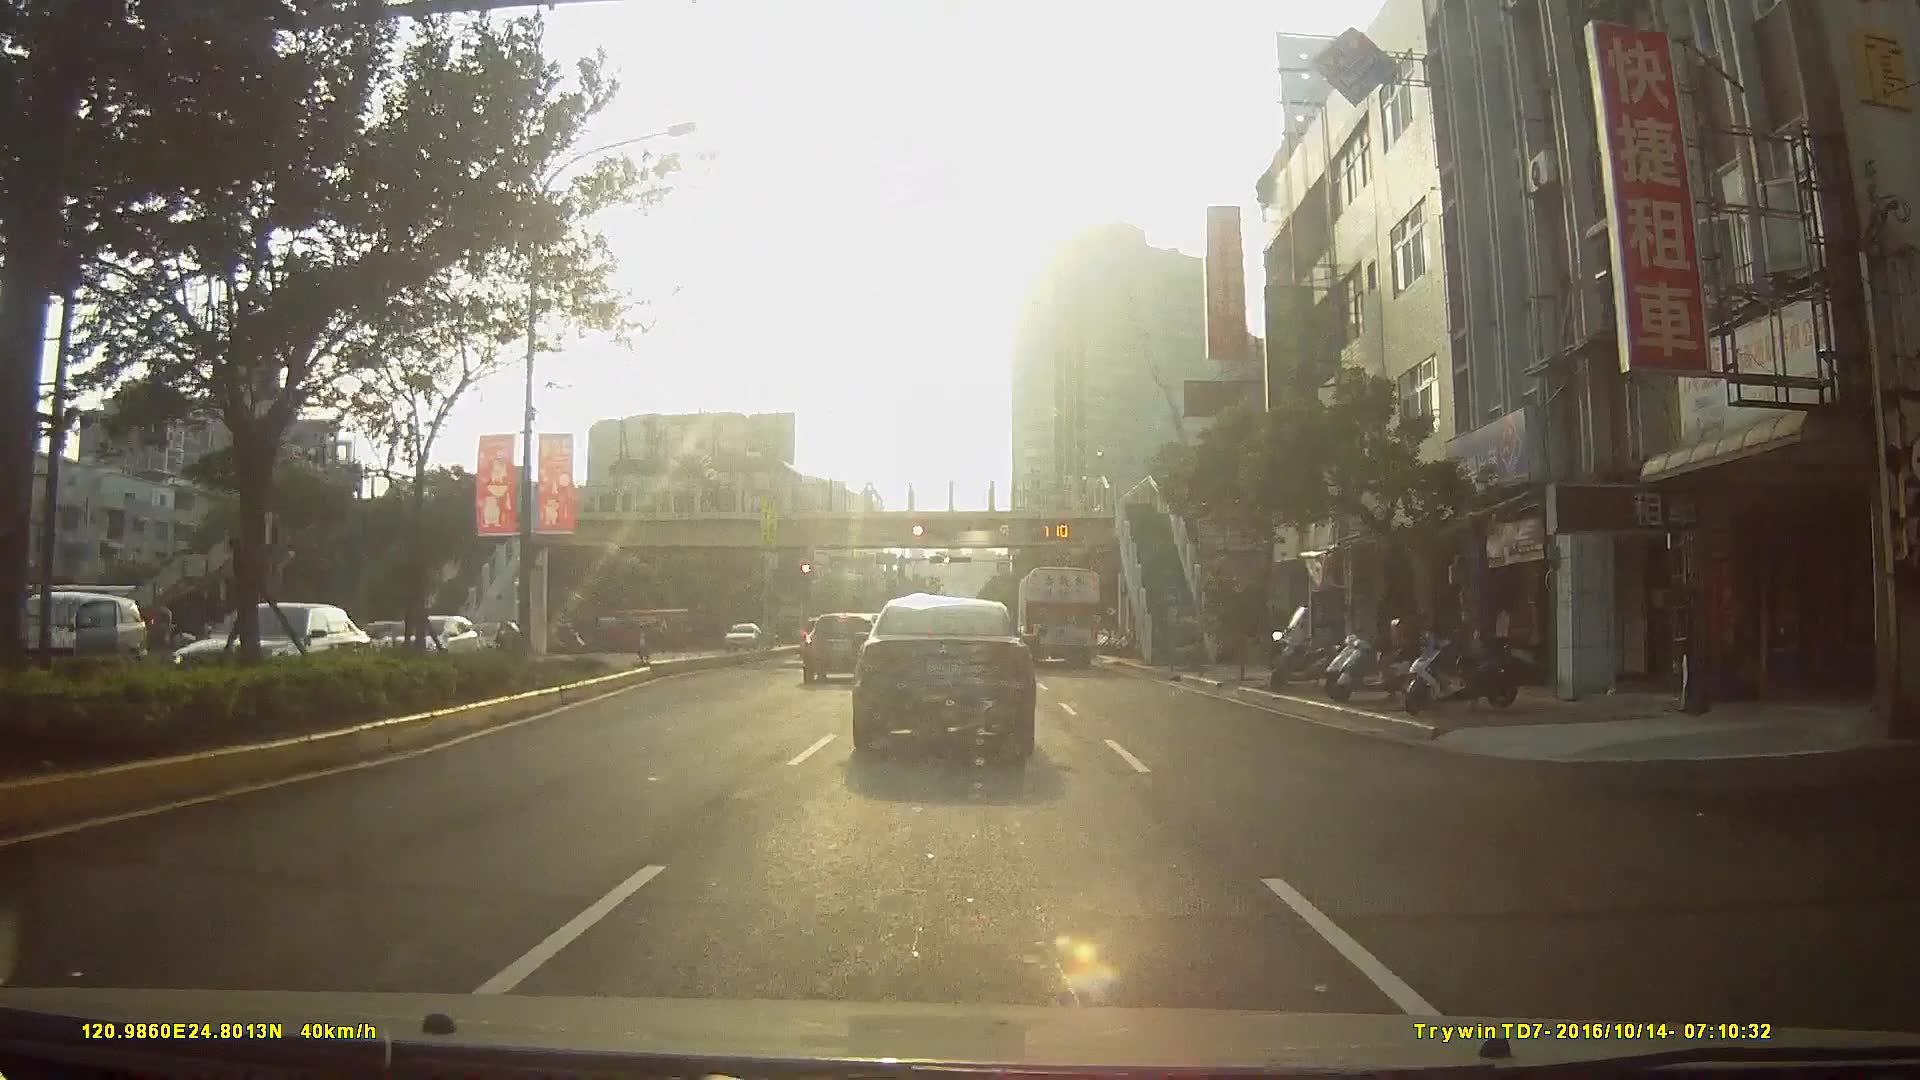vehicle: (849, 593, 1036, 753), (0, 589, 142, 673), (1014, 560, 1105, 669), (799, 611, 880, 686), (721, 618, 764, 651)
